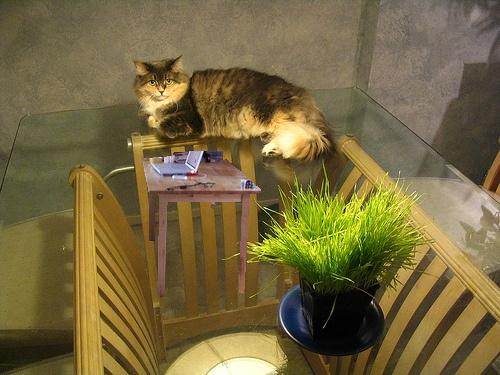tampered: (143, 152, 261, 295)
